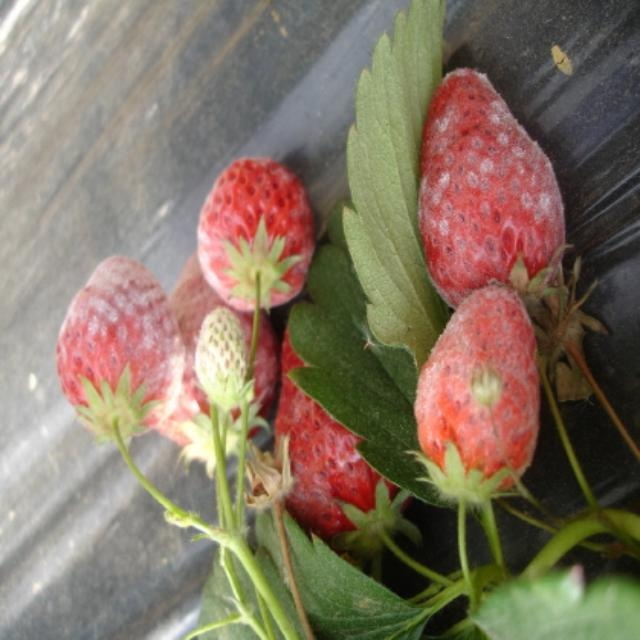Powdery Mildew Fruit: (416, 69, 579, 344), (415, 284, 540, 506), (54, 256, 185, 440), (271, 367, 386, 546), (196, 157, 318, 313), (193, 306, 255, 416)
